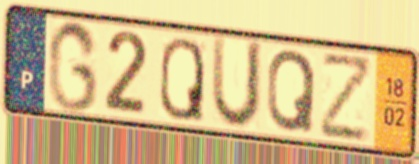2: (103, 29, 152, 119)
G: (45, 17, 100, 116)
Q: (264, 47, 318, 135), (157, 34, 206, 125)
U: (208, 33, 267, 134)
Z: (320, 53, 375, 145)
